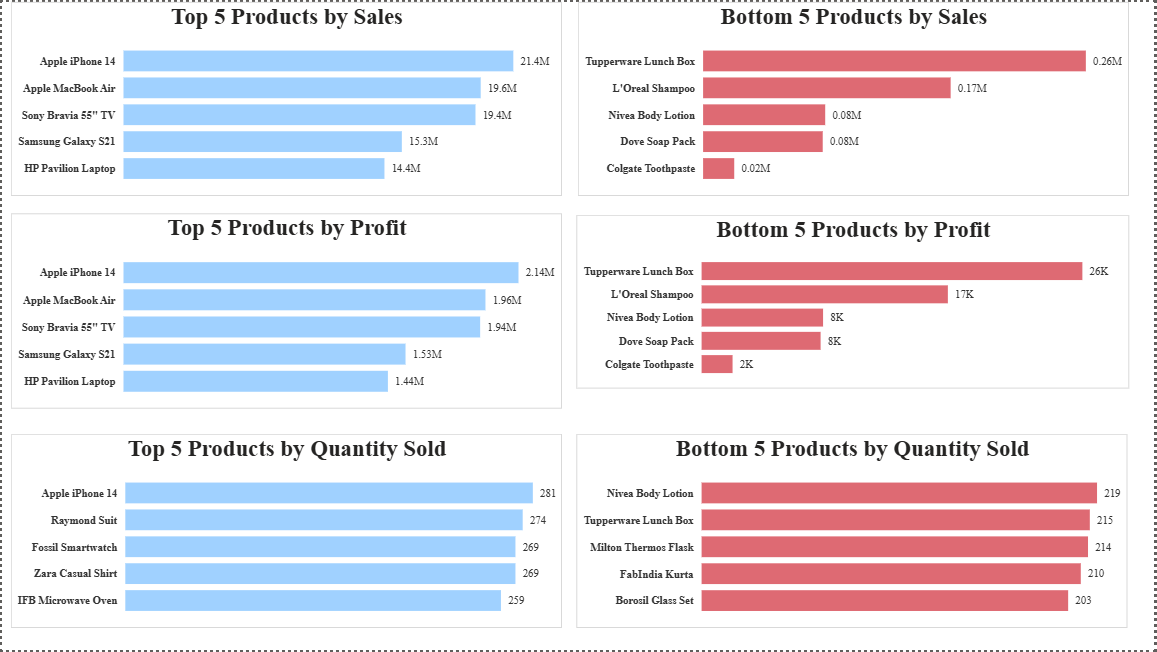

The dashboard page shown, as its layout file describes it:
{"tool":"powerbi","page":{"name":"1) Top/Bottom","canvas":[1280,720],"ordinal":0},"visuals":[{"type":"barChart","title":"Top 5 Products by Sales","fields":{"Y":["Sum(Fact table.Net Sales)"],"Category":["Dim Product.Product Name"]},"box":[9.7,0,612.1,215.4],"z":0},{"type":"barChart","title":"Bottom 5 Products by Sales","fields":{"Y":["Sum(Fact table.Net Sales)"],"Category":["Dim Product.Product Name"]},"box":[639.6,0,612.1,215.4],"z":1000},{"type":"barChart","title":"Top 5 Products by Profit","fields":{"Category":["Dim Product.Product Name"],"Y":["Sum(Fact table.Profit)"]},"box":[9.7,234.8,612.1,217],"z":2000},{"type":"barChart","title":"Bottom 5 Products by Profit","fields":{"Category":["Dim Product.Product Name"],"Y":["Sum(Fact table.Profit)"]},"box":[638,236.4,613.7,192.7],"z":3000},{"type":"barChart","title":"Top 5 Products by Quantity Sold","fields":{"Category":["Dim Product.Product Name"],"Y":["Sum(Fact table.Units Sold)"]},"box":[9.7,479.3,612.1,215.4],"z":4000},{"type":"barChart","title":"Bottom 5 Products by Quantity Sold","fields":{"Category":["Dim Product.Product Name"],"Y":["Sum(Fact table.Units Sold)"]},"box":[638.7,480,612.3,215.4],"z":5000}]}

Visuals, with their boxes in screenshot pixels (x1, y1, x2, y2), scaled from the page's 1280x720 canvas onto the 1157x652 screenshot:
"Top 5 Products by Sales" barChart: 9:0:562:195
"Bottom 5 Products by Sales" barChart: 578:0:1131:195
"Top 5 Products by Profit" barChart: 9:213:562:409
"Bottom 5 Products by Profit" barChart: 577:214:1131:389
"Top 5 Products by Quantity Sold" barChart: 9:434:562:629
"Bottom 5 Products by Quantity Sold" barChart: 577:435:1131:630
